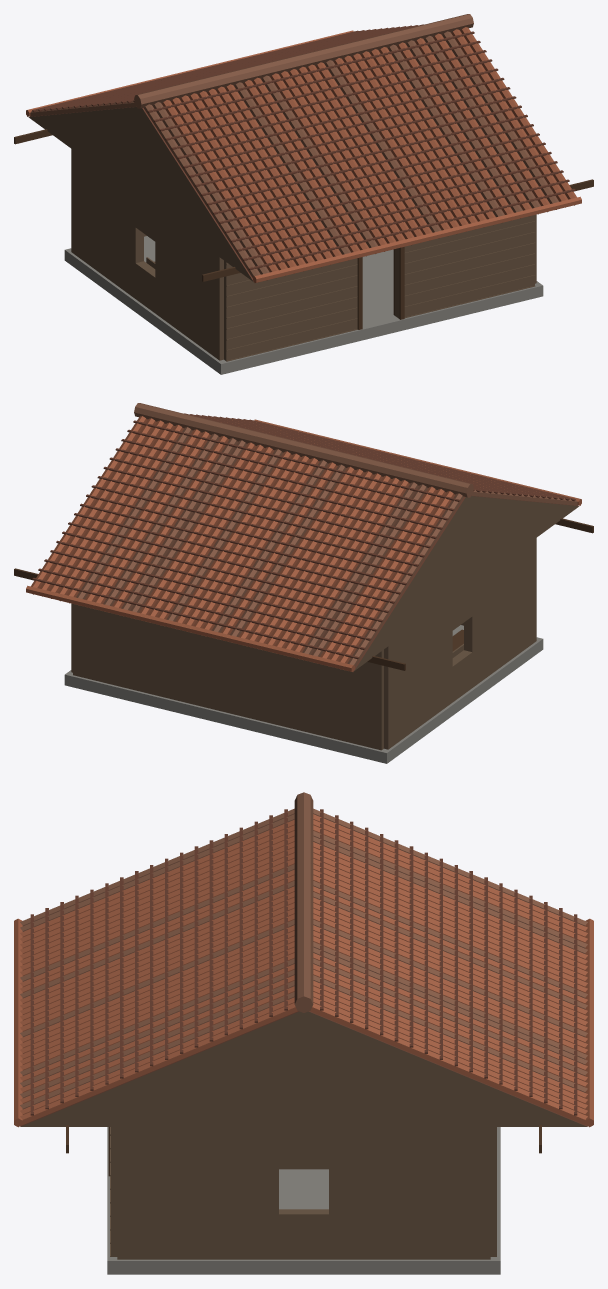
File: SM_Kulube_4.fbx
3 renders of one model, top to bottom at view 1: azimuth 30°, elevation 25°; view 2: azimuth 150°, elevation 25°; view 3: azimuth 270°, elevation 25°, orthographic. The views are drawn at different scales.
Visible parts, largest first — view 1: Kulube_4; view 2: Kulube_4; view 3: Kulube_4.
Boxes of the visible parts, x1,y1,x2,y2 form: Kulube_4: (14,14,593,374); Kulube_4: (14,403,593,763); Kulube_4: (14,792,593,1274).
Size of the model in its own units: 1140 by 624 by 1165.
